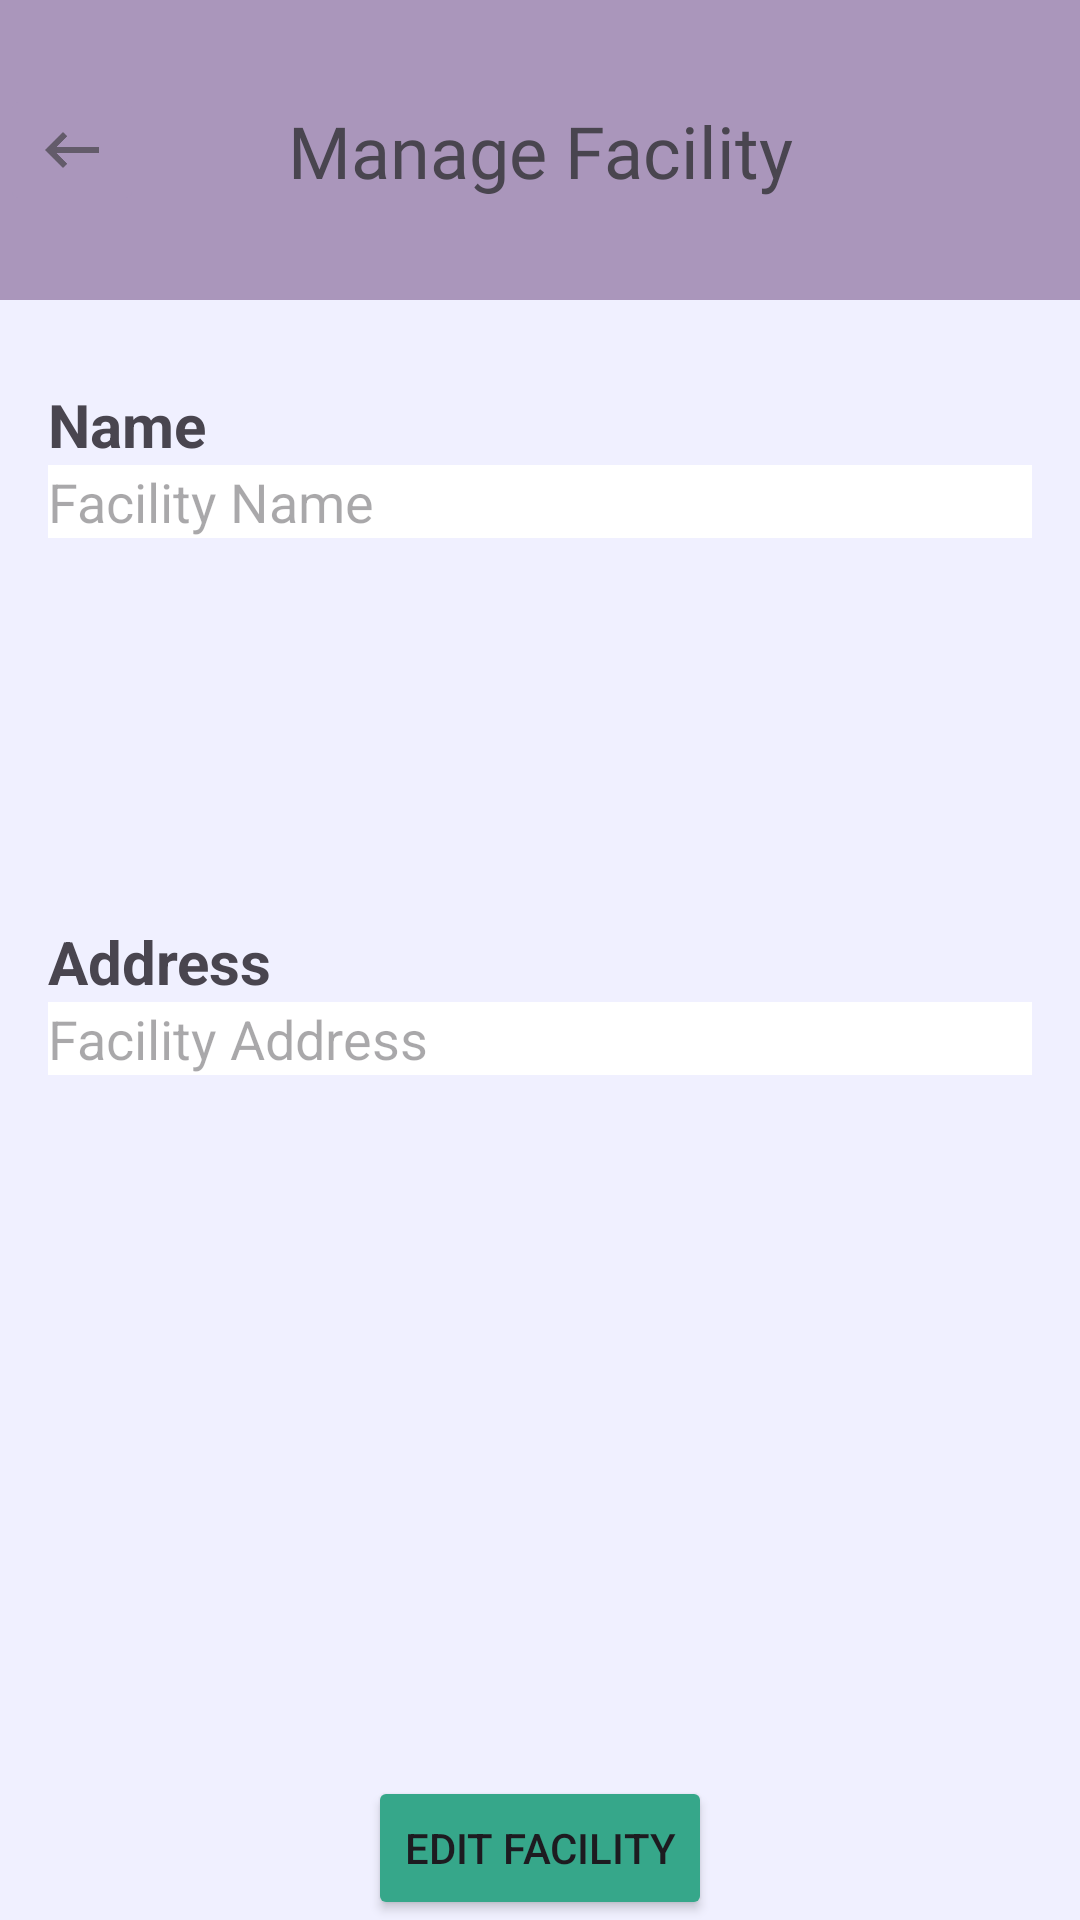

Point at icon controls on the screen. Image size 1080 × 1920, points as point (x, y).
back: point (72, 150)
